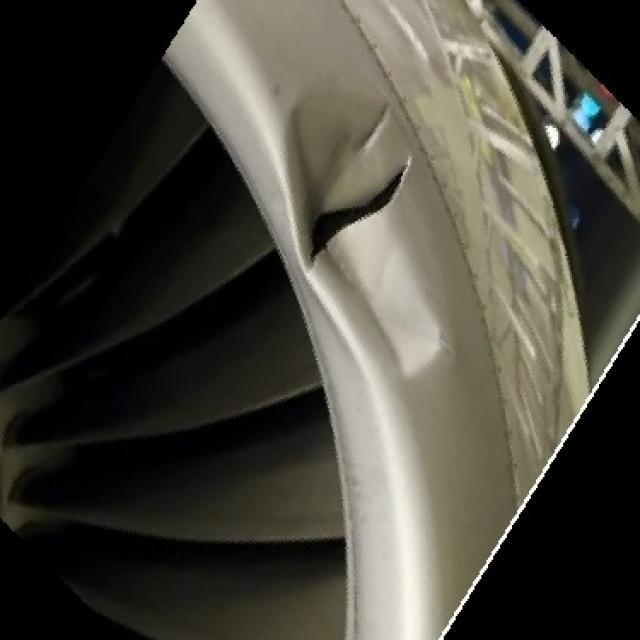crack: (292, 148, 425, 274), (315, 169, 404, 252)
dent: (300, 228, 458, 408)
